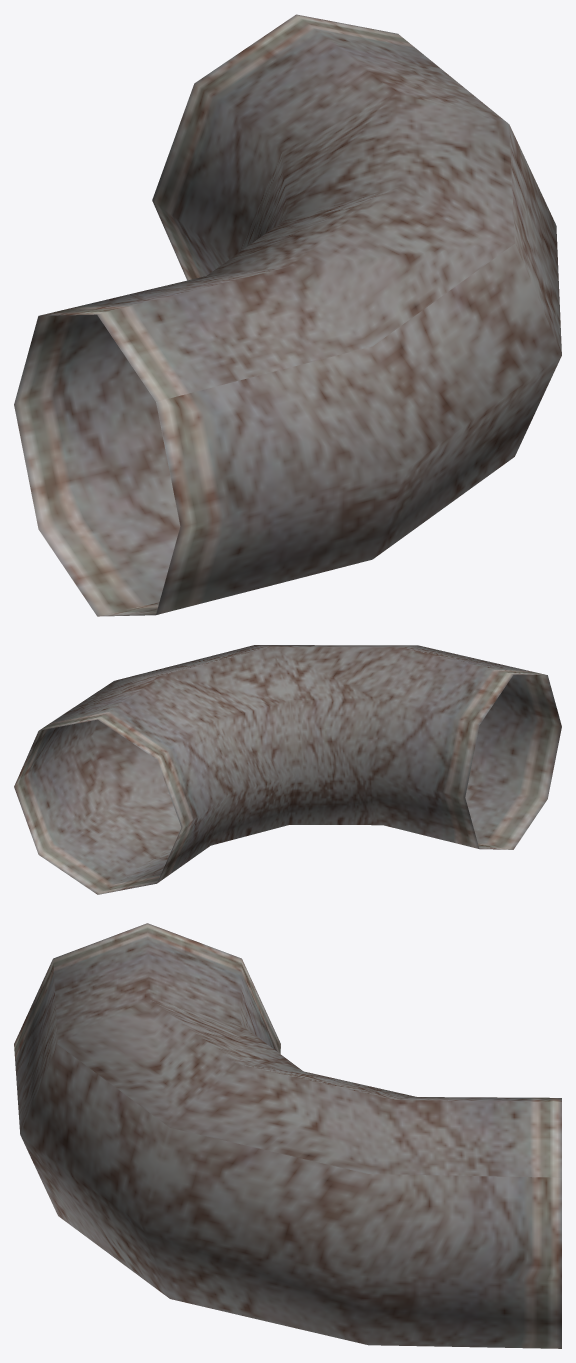
Rendered from Venting6.fbx.
3 views of the same model, one above another, from view 1: azimuth 30°, elevation 25°; view 2: azimuth 150°, elevation 25°; view 3: azimuth 270°, elevation 25° (orthographic). The views are drawn at different scales.
Visible parts, largest first — view 1: Venting6; view 2: Venting6; view 3: Venting6.
Part boxes in pixels (<box>): Venting6: <box>14,14,561,616</box>; Venting6: <box>14,645,561,894</box>; Venting6: <box>14,923,561,1348</box>.
Bounding box in the file's own units: 46.57 × 22.34 × 45.79.
